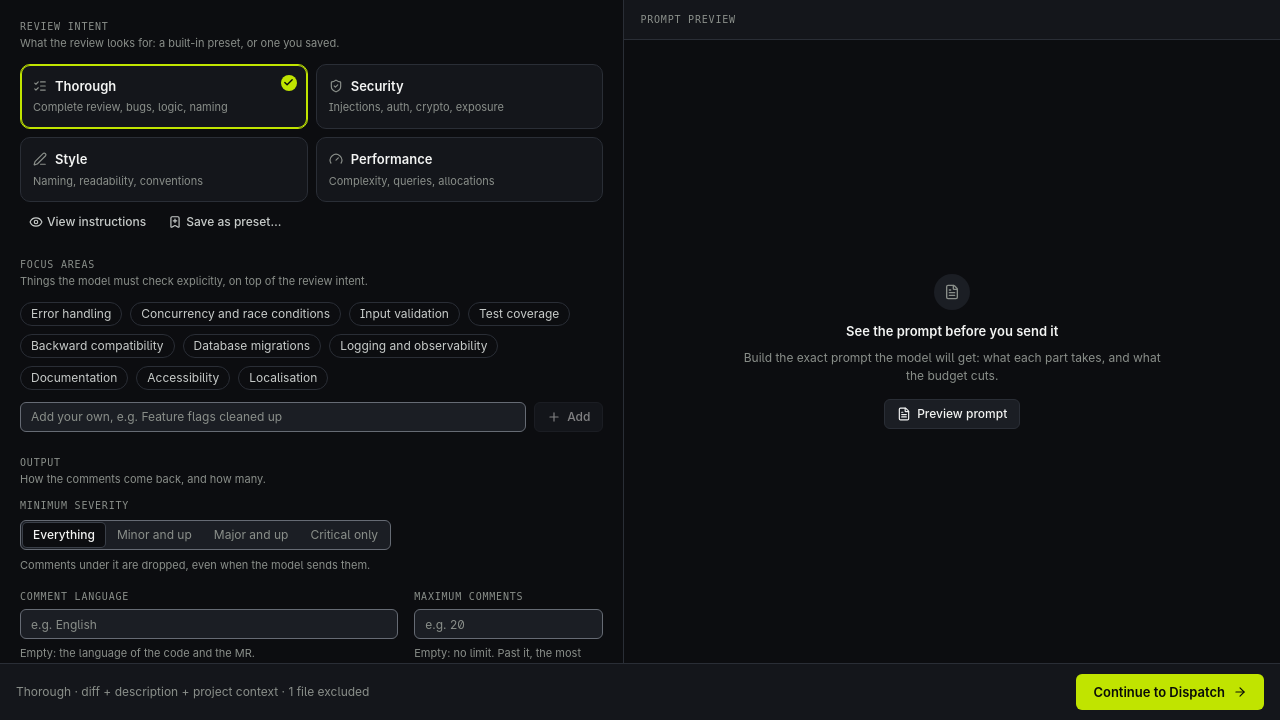
Scenario: BriefStage — copy › copies on a plain-http origin without the Clipboard API
Click the button "Preview prompt" at (952, 414), box [884,399,1020,429]
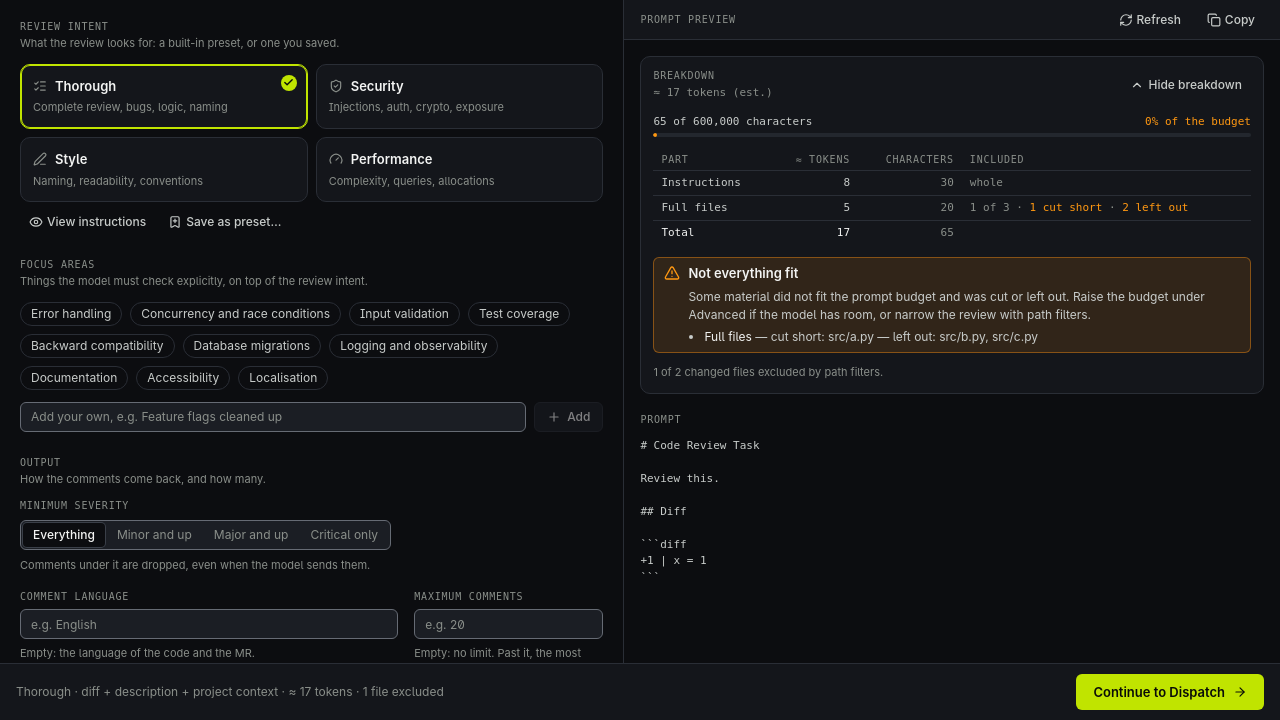
Click the button "Copy" at (1231, 20), box [1198,8,1264,32]
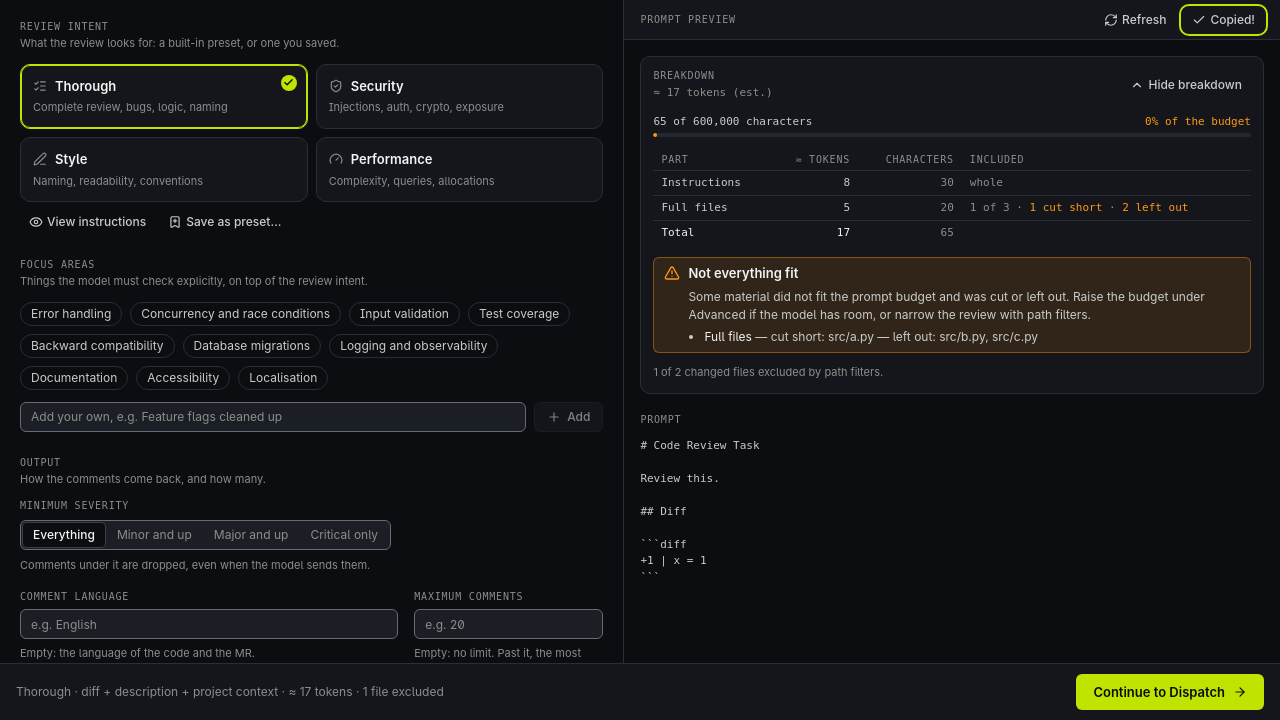
Expected: the button "Copied!" is shown, [1183,8,1264,32]
